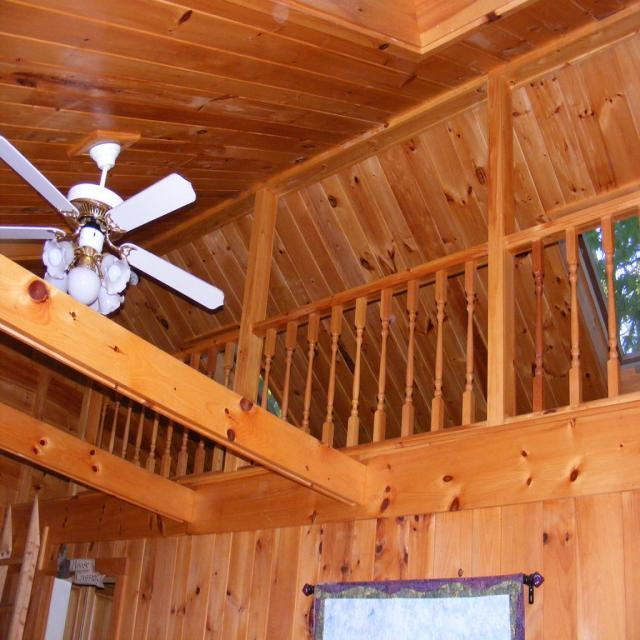bulb_off: (105, 262, 126, 286), (47, 248, 64, 271)
fan_off: (0, 137, 226, 319)
